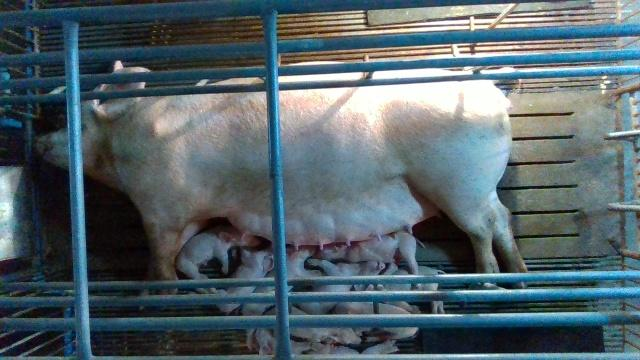piglet: (242, 244, 323, 350), (313, 230, 425, 288), (296, 260, 386, 314), (175, 228, 259, 279), (211, 243, 274, 311), (259, 306, 361, 345), (332, 302, 419, 342), (375, 267, 448, 314)
sow-sleep-lactate: (37, 61, 530, 311)
